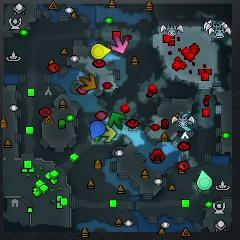p1: (90, 119, 106, 141)
p2: (197, 168, 212, 191)
p4: (92, 44, 111, 58)
x1: (111, 37, 129, 54)
x2: (100, 123, 117, 143)
x3: (178, 111, 198, 132)
x4: (109, 113, 126, 130)
x5: (81, 73, 97, 91)
